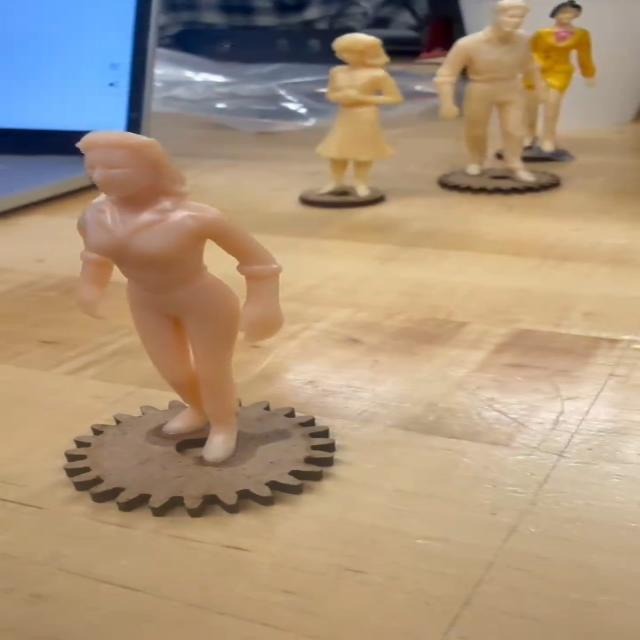Unauthorized: (62, 101, 292, 463)
